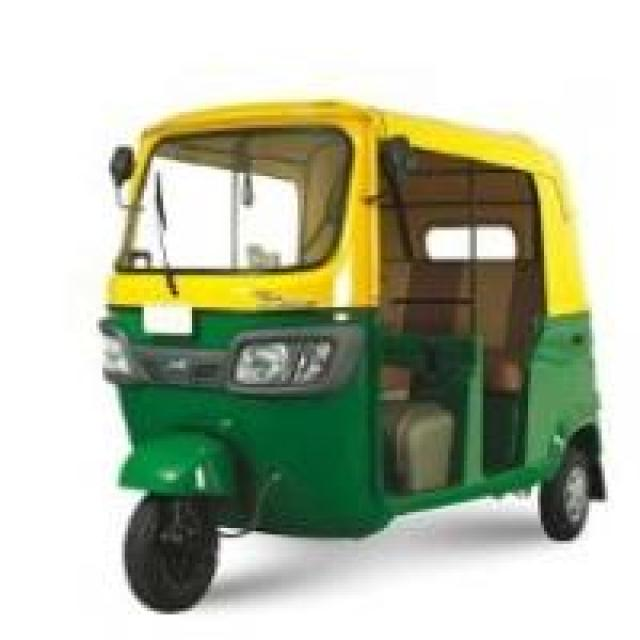autorickshaw: (99, 96, 608, 614)
